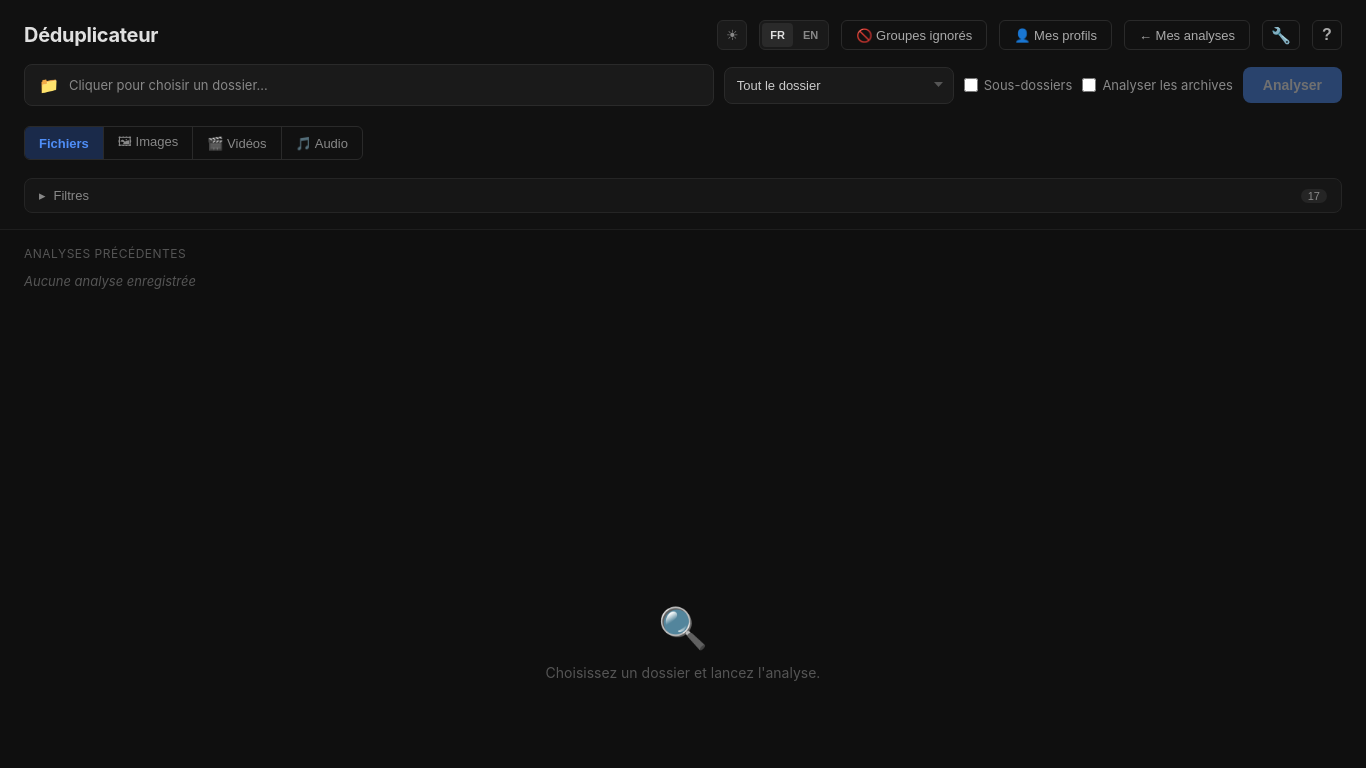
Scenario: S - Scénarios complets (3 modes × 4 types × 2 résultats = 24) › compare_folder / files / false
Click the text "Cliquer pour choisir un dossier…" at coordinates (168, 85), box [69,77,268,93]
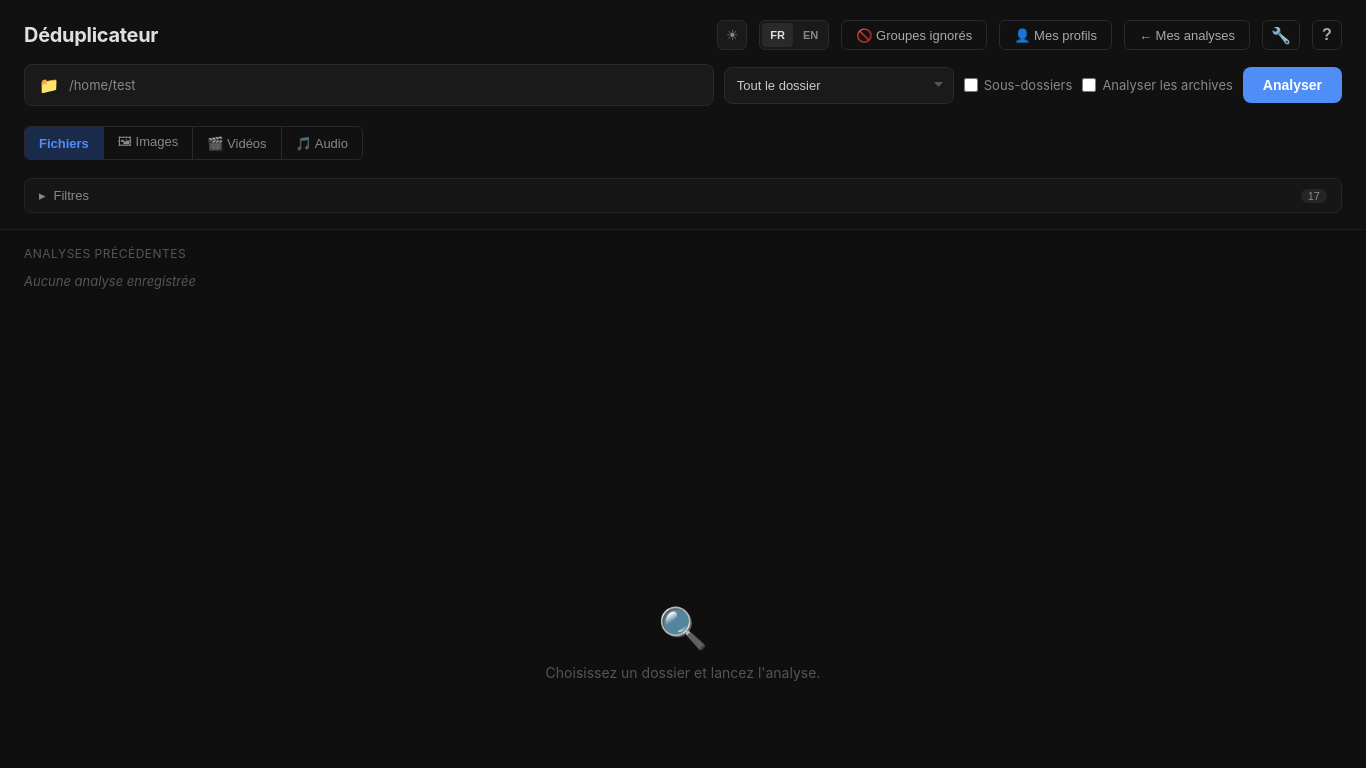
Result: the text "/home/test" is shown at [69,77,136,93]
Select "Comparer avec un autre dossier" in the dropdown at coordinates (839, 85), box [724,66,954,104]
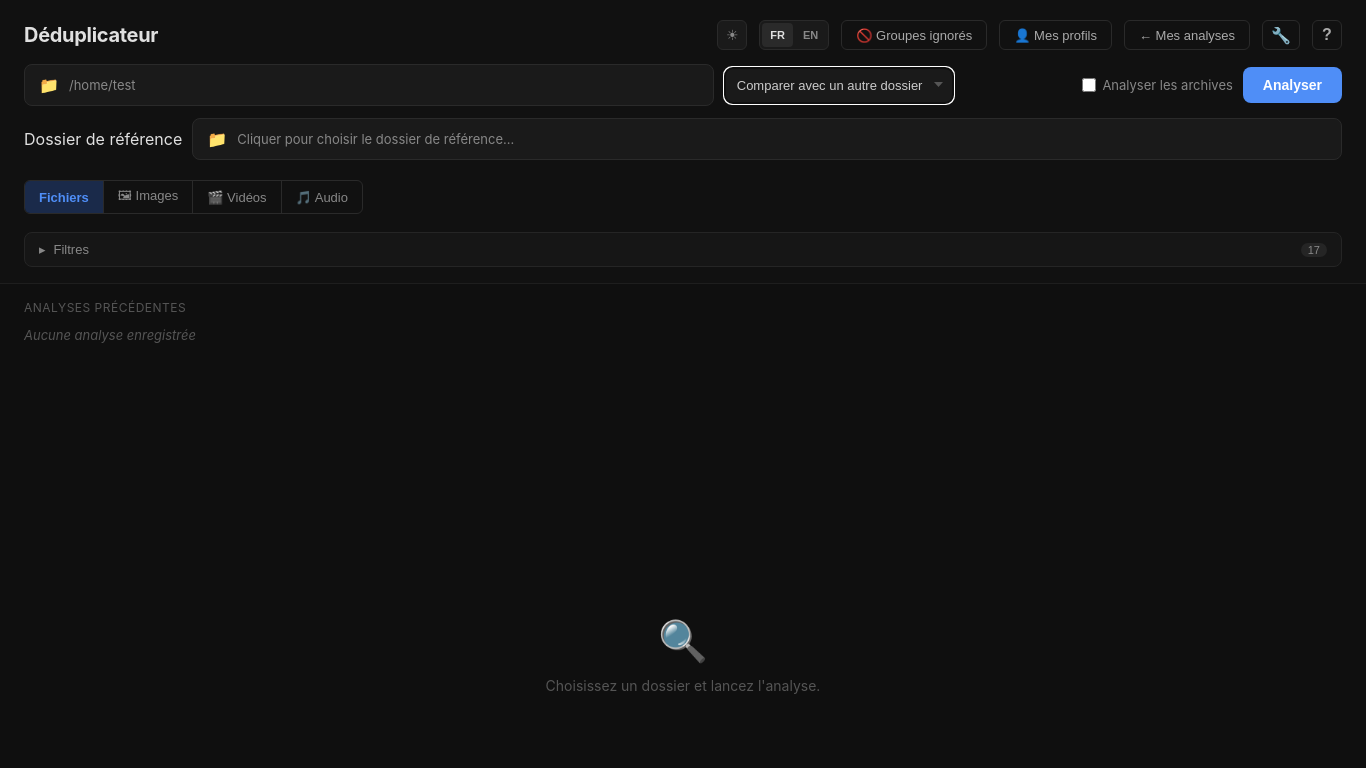
Click the element with test id "secondary-folder-input" at coordinates (767, 139), box [192,118,1342,160]
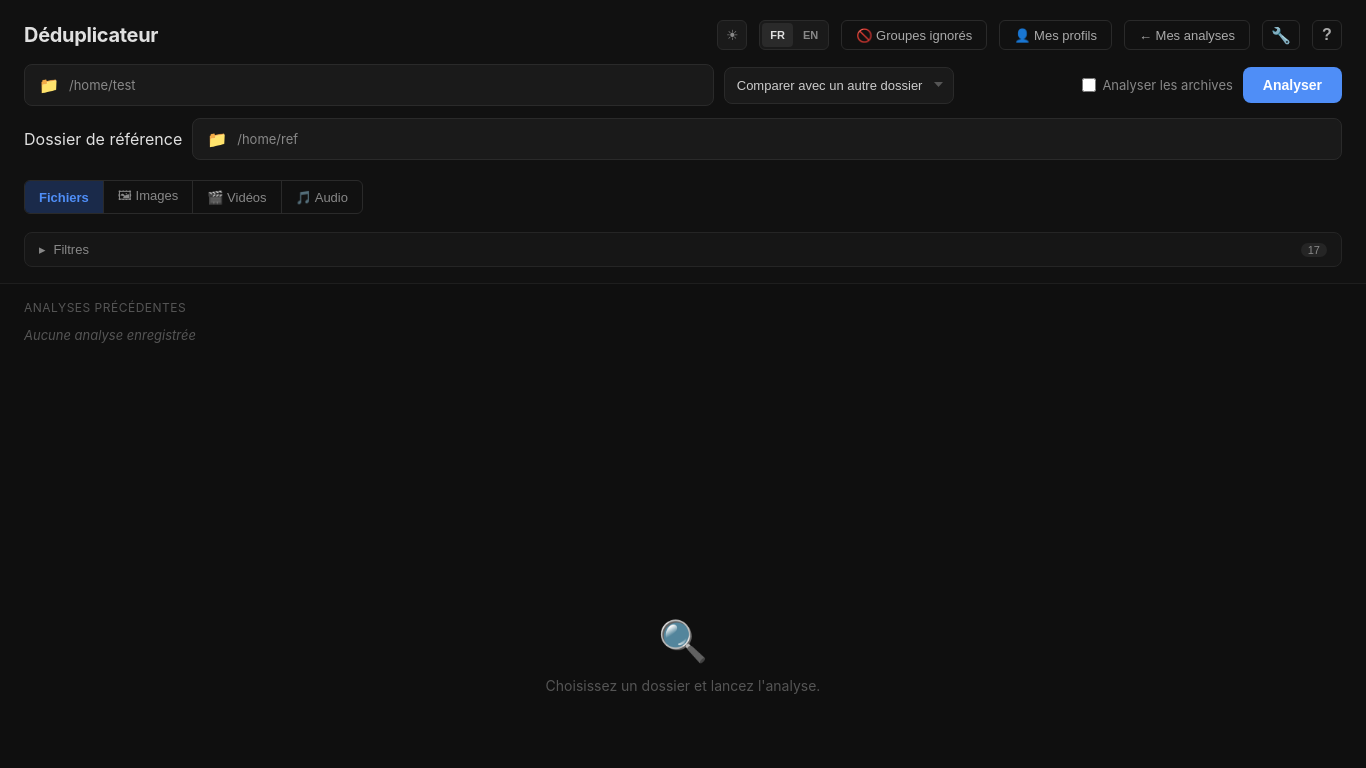
Result: the text "/home/ref" is shown at [237,131,298,147]
Click the button "Analyser" at coordinates (1292, 85), box [1243,67,1342,103]
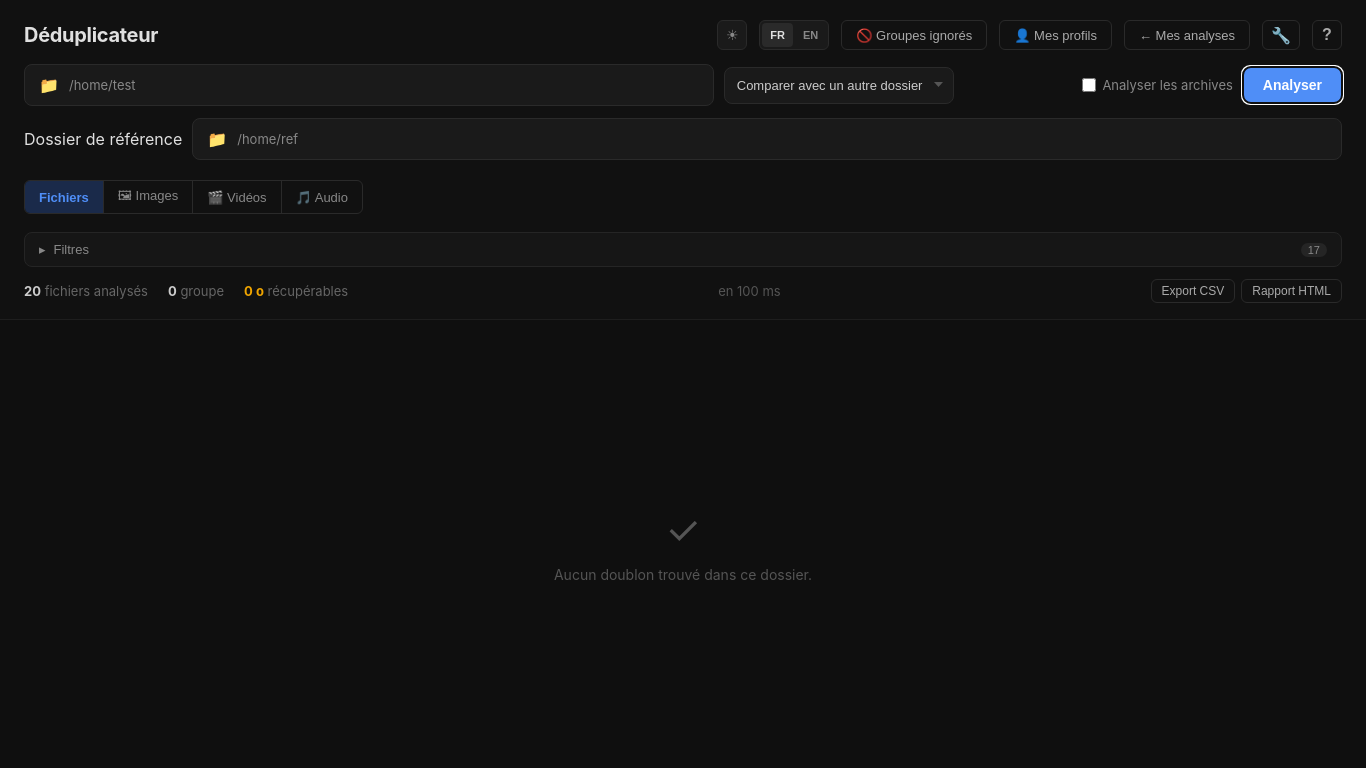
Result: the element with test id "stats-row" is shown at [24,279,1342,303]
Result: the text "Aucun doublon trouvé dans ce dossier." is shown at [554,566,812,583]
